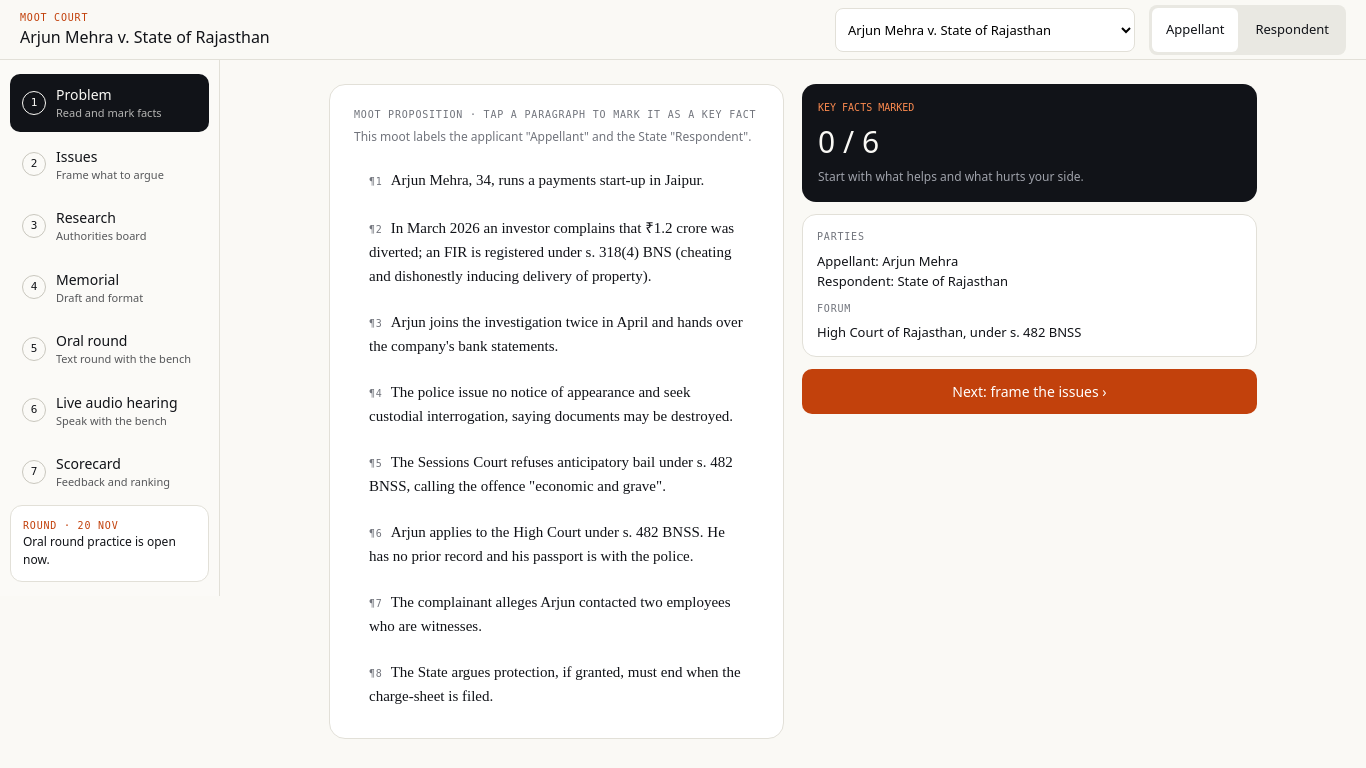
stage completion ticks the rail › Problem completes at 4 facts, and the key facts counter only counts paragraphs 3 to 8
This screenshot has width=1366, height=768.
Click the button "¶1Arjun Mehra, 34, runs a payments start-up in Jaipur." at (556,180), box [354,158,759,202]
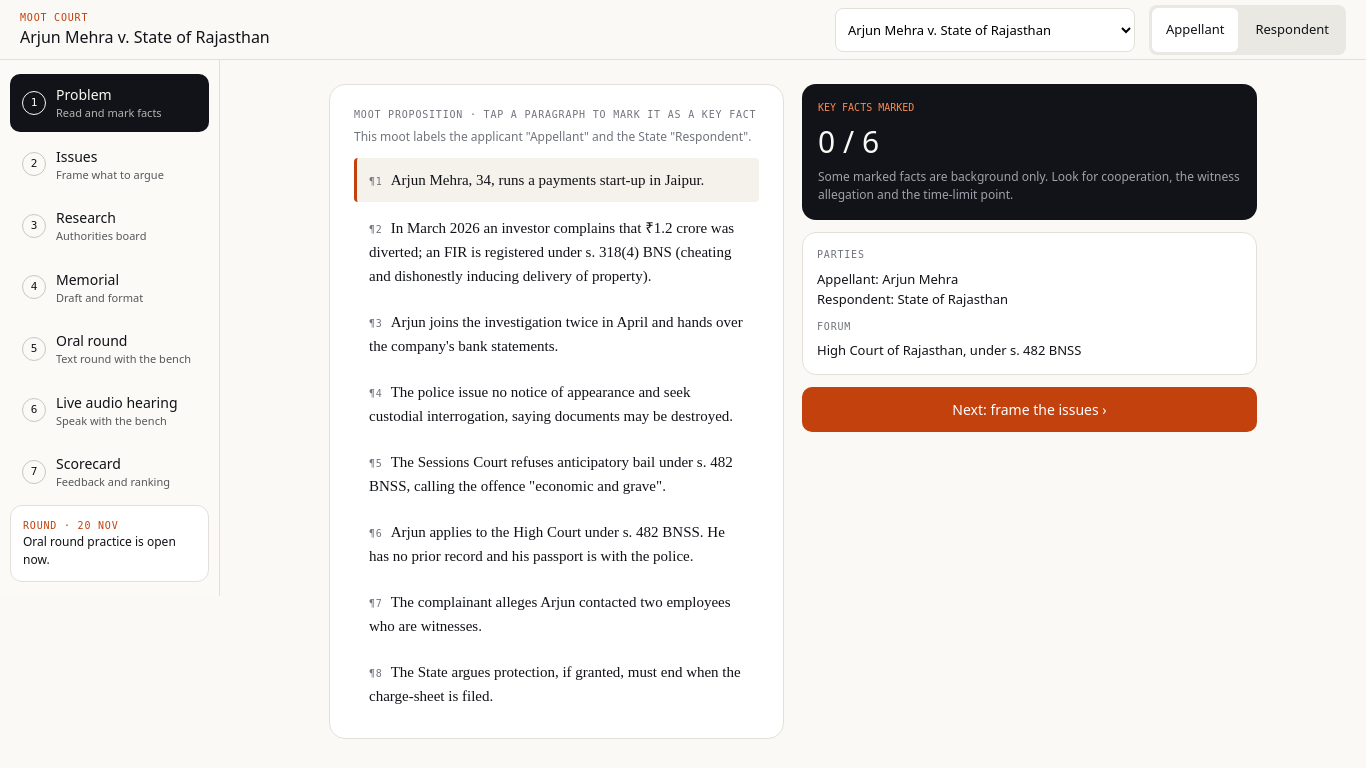
Result: the text "Some marked facts are background only" is shown at [818,168,1240,203]
Click the button "joins the investigation twice" at (567,322), box [354,302,759,366]
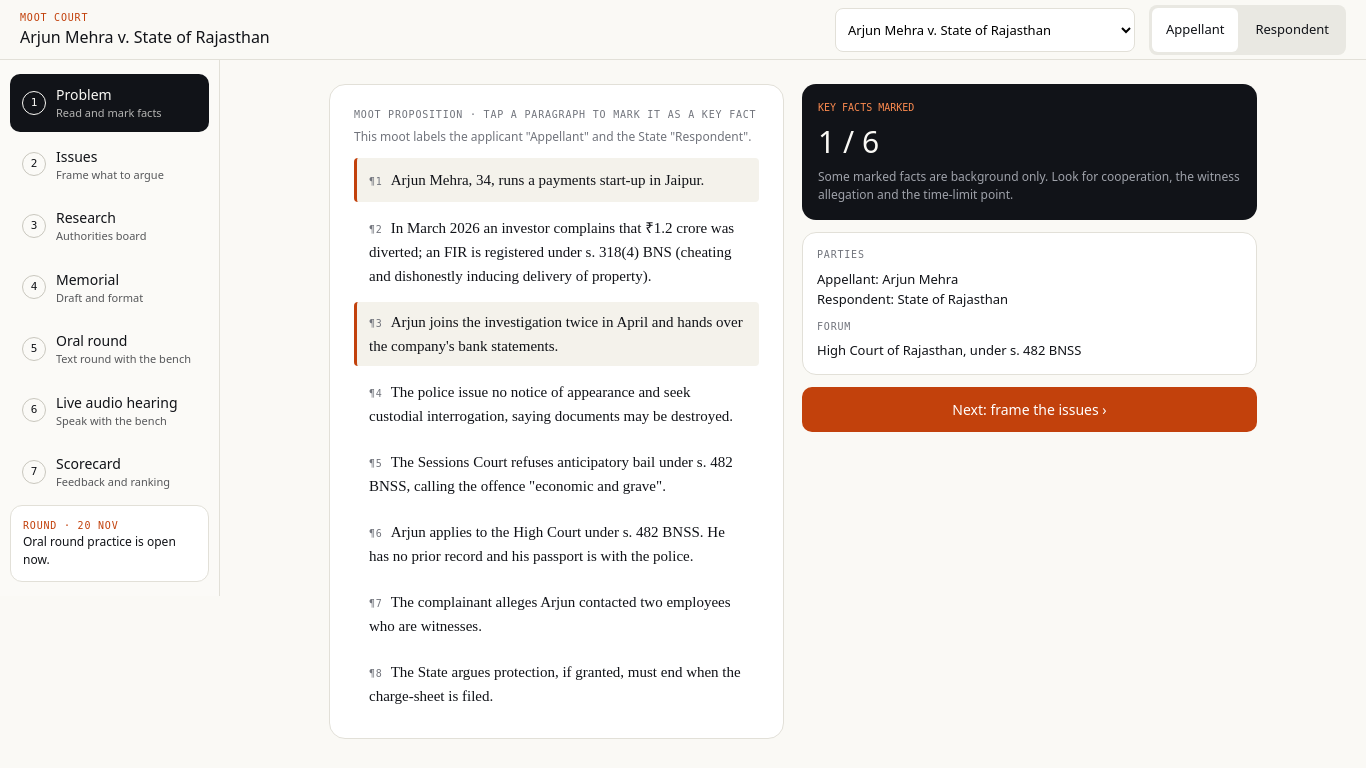
Click the button "no notice of appearance" at (541,392), box [354,372,759,436]
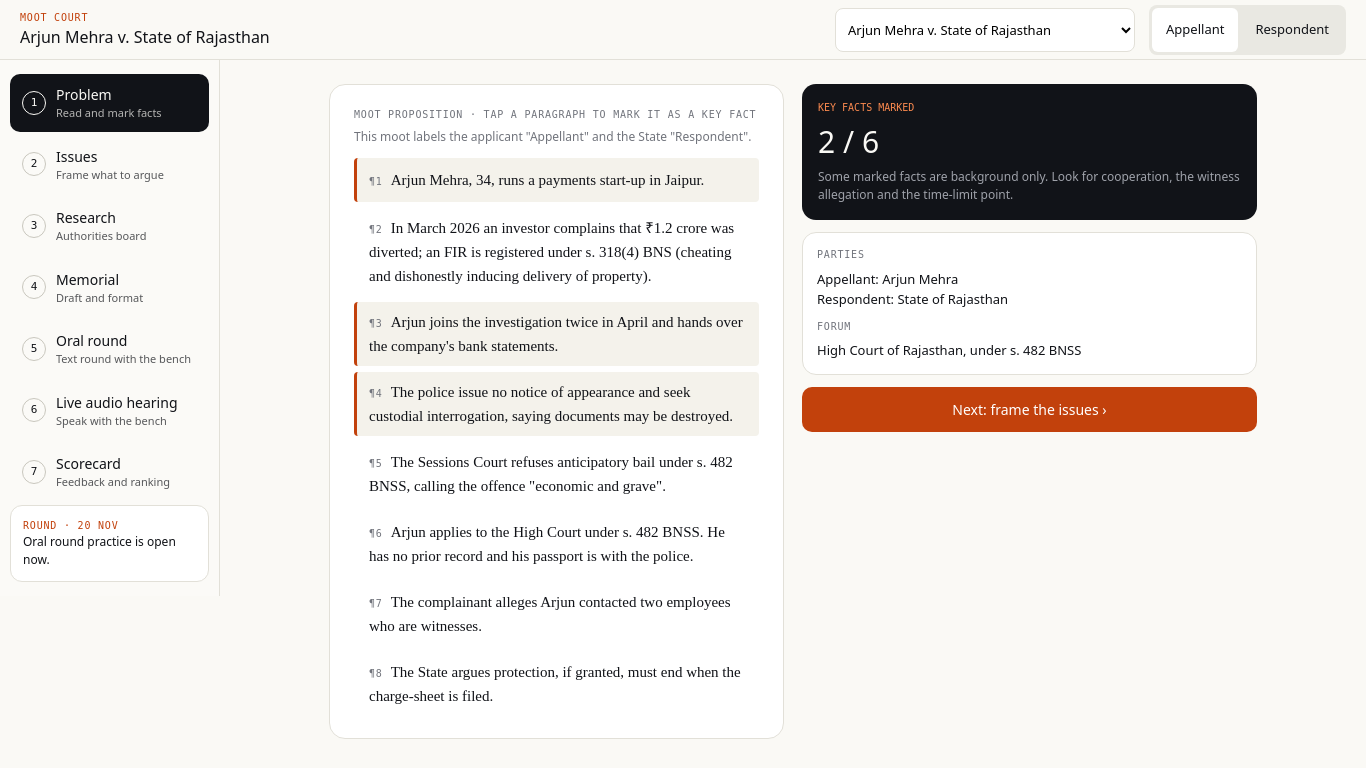
Click the button "Sessions Court refuses" at (562,462), box [354,442,759,506]
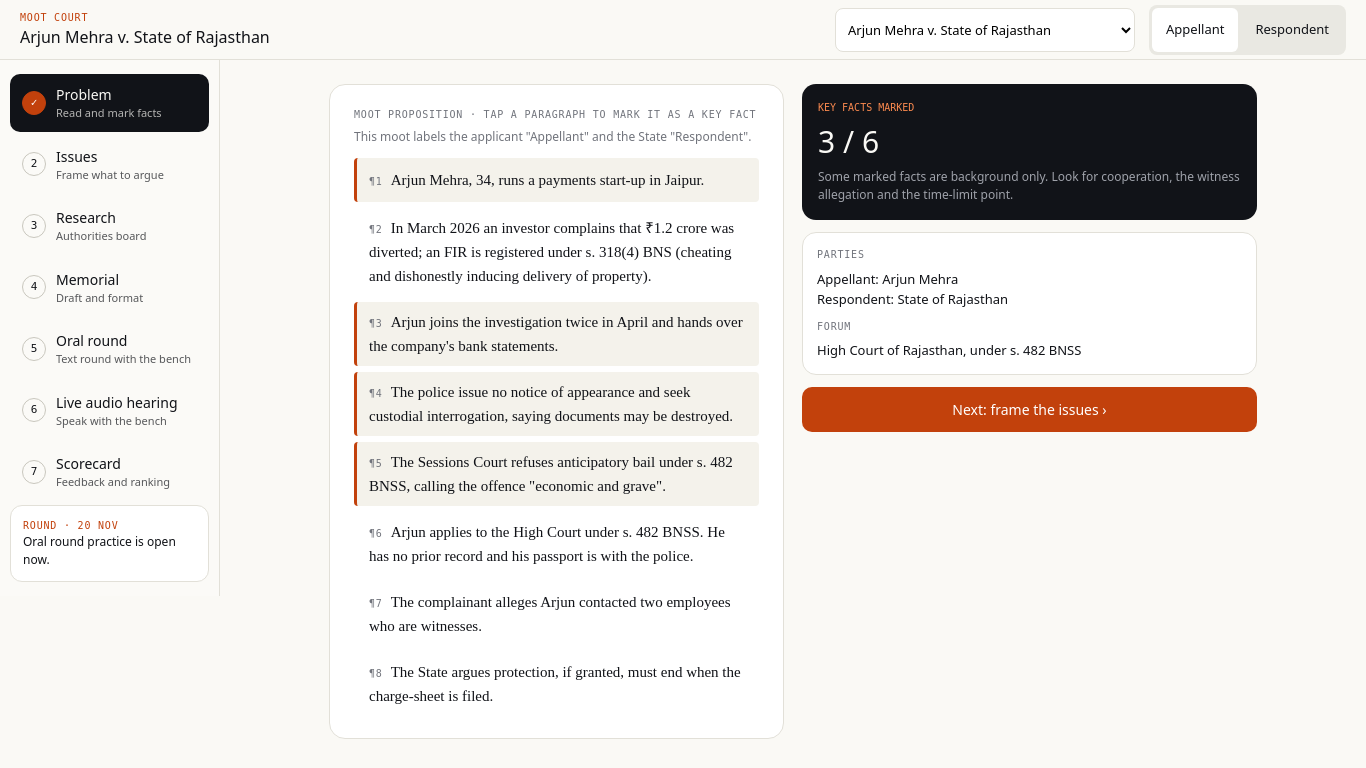
Result: the text "3 / 6" is shown at [818,121,879,162]
